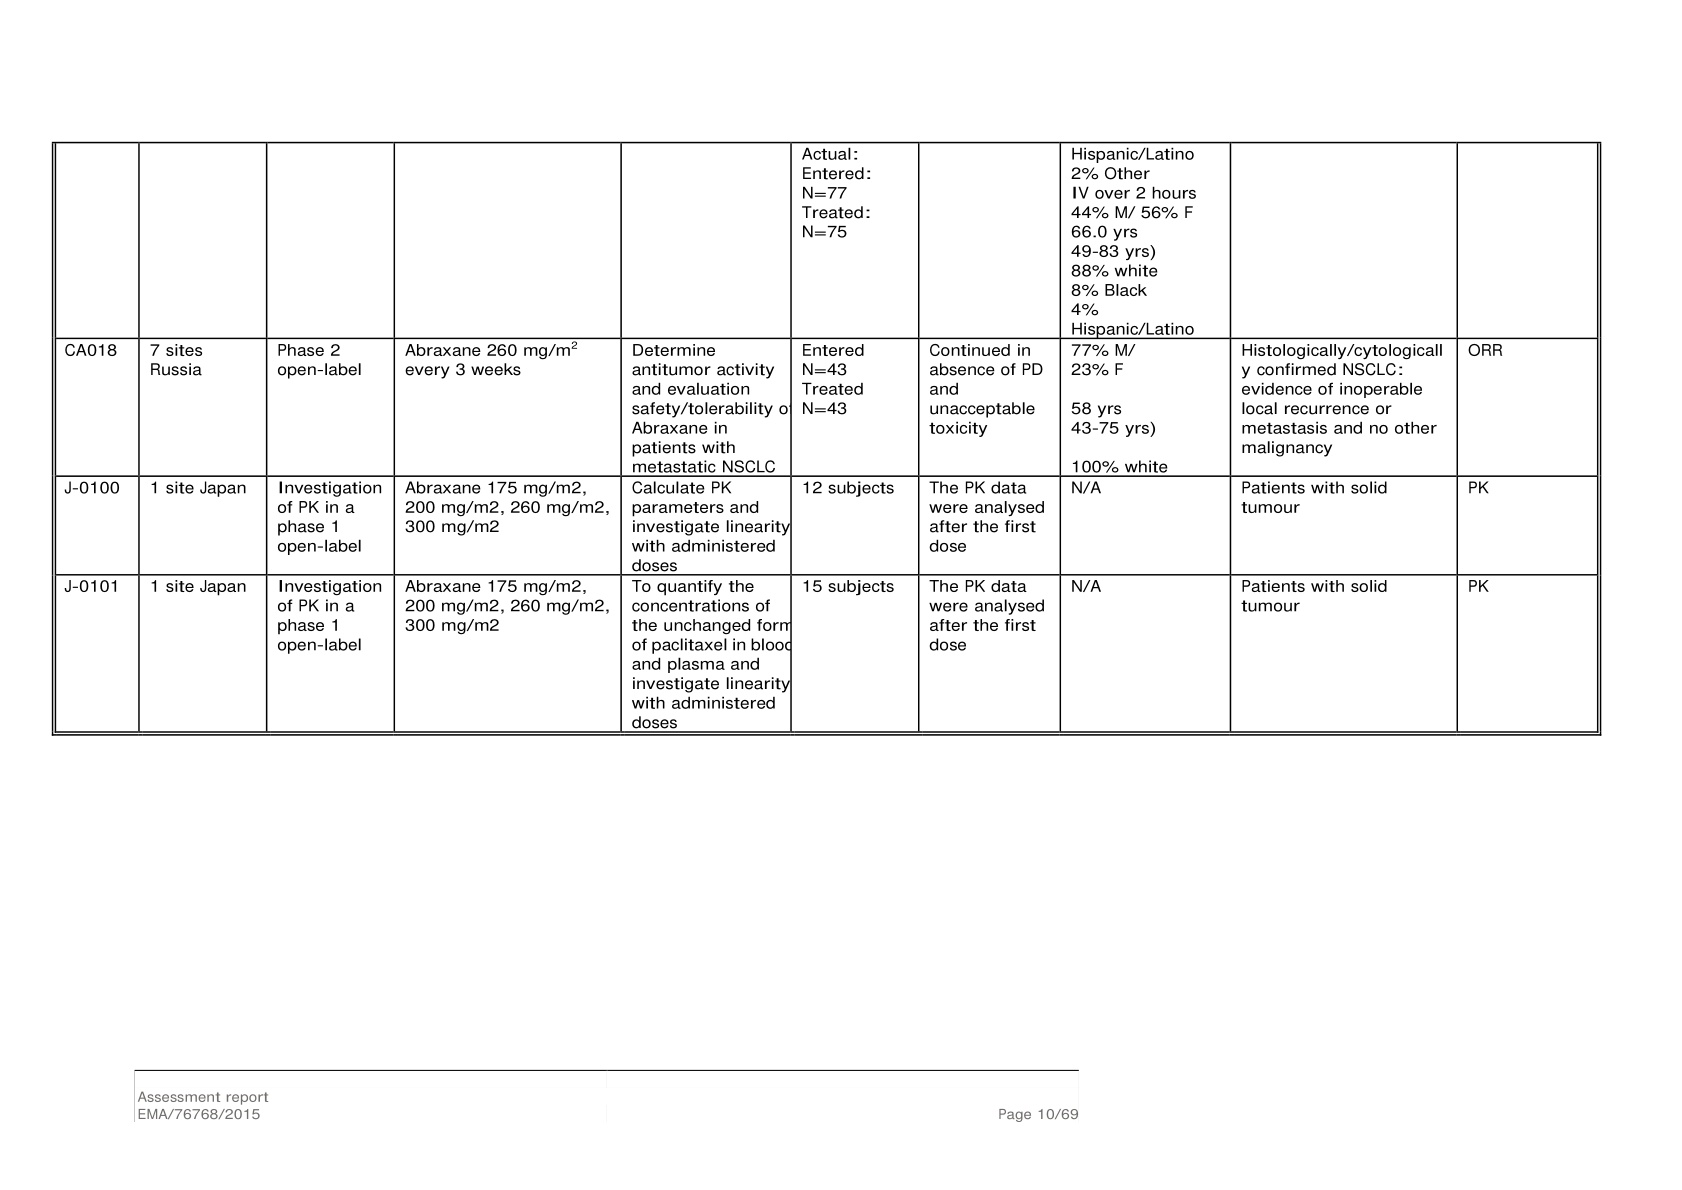full_lined: (52, 139, 1602, 737)
